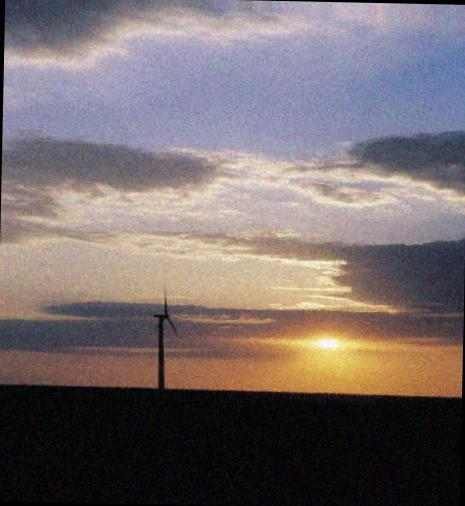wind turbine: (144, 283, 177, 389)
